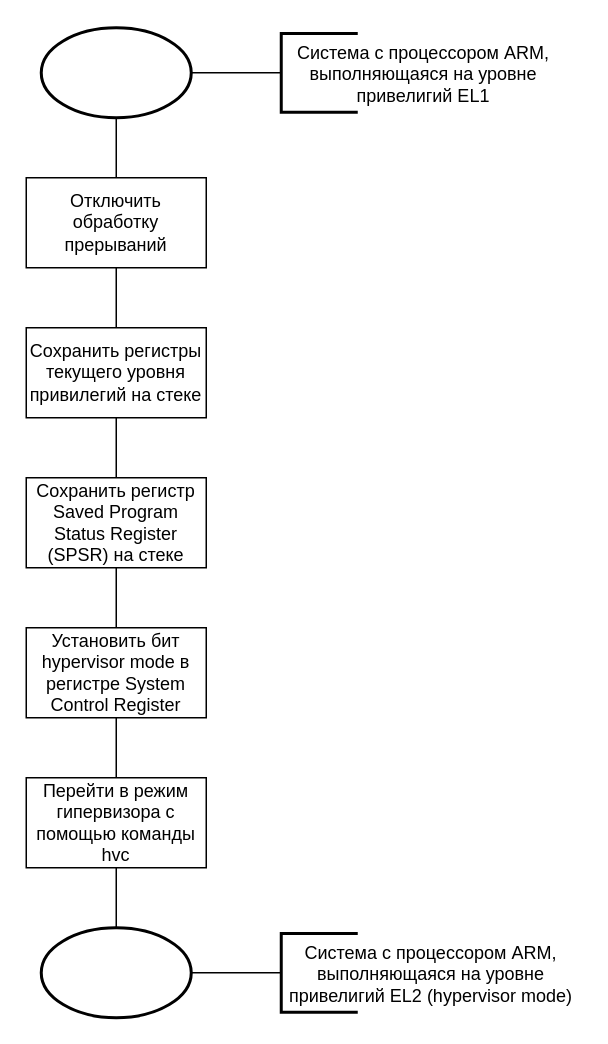
The diagram is 608 pixels wide and 1044 high, and some of its shapes have lost their labels. Here are the shapes that lost their labels. From the top down, the box of each, then its label:
(39, 26, 192, 118): Начало
(39, 926, 192, 1018): Конец
